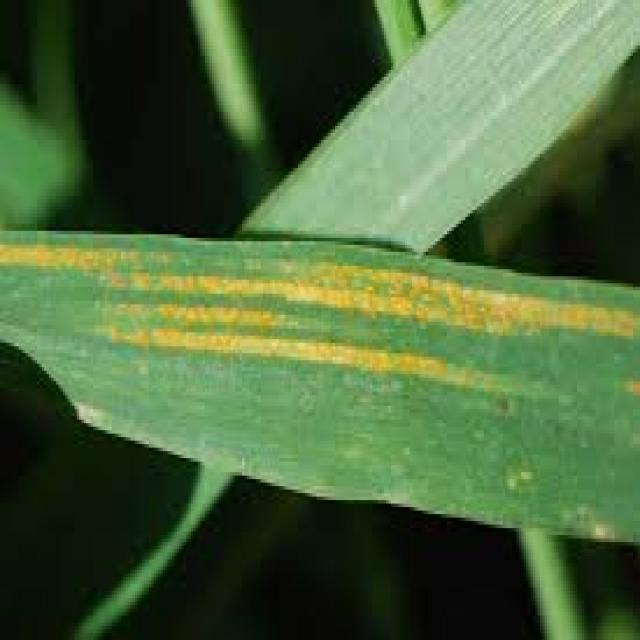leaf rust: (2, 227, 640, 416)
